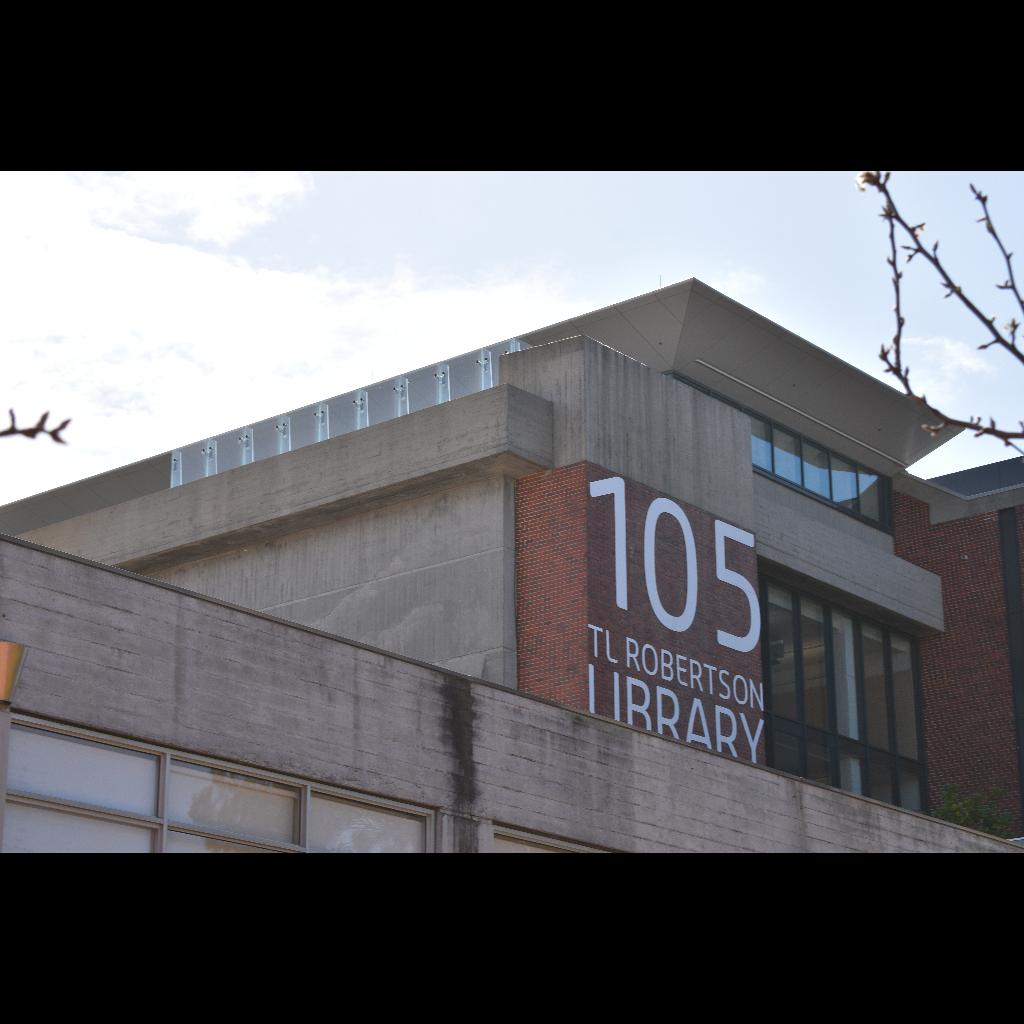BuildingCodes: (584, 469, 764, 657)
